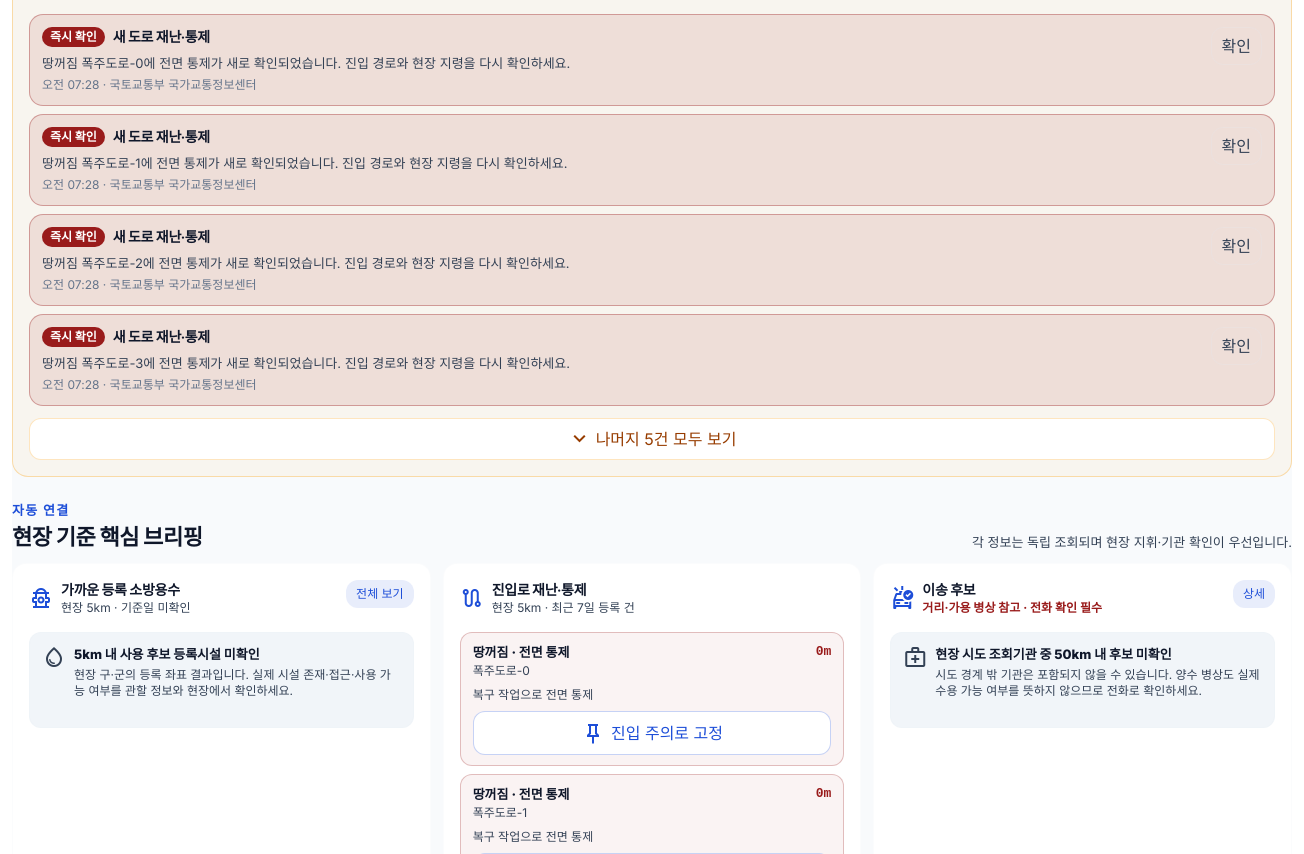
Scenario: IncidentModeView operational flow › keeps all simultaneous alerts but initially collapses the visible list
The width and height of the screenshot is (1304, 854).
(page scrolled)
Click the button "나머지 5건 모두 보기": x=652, y=439 [29, 418, 1275, 460]
(page scrolled)
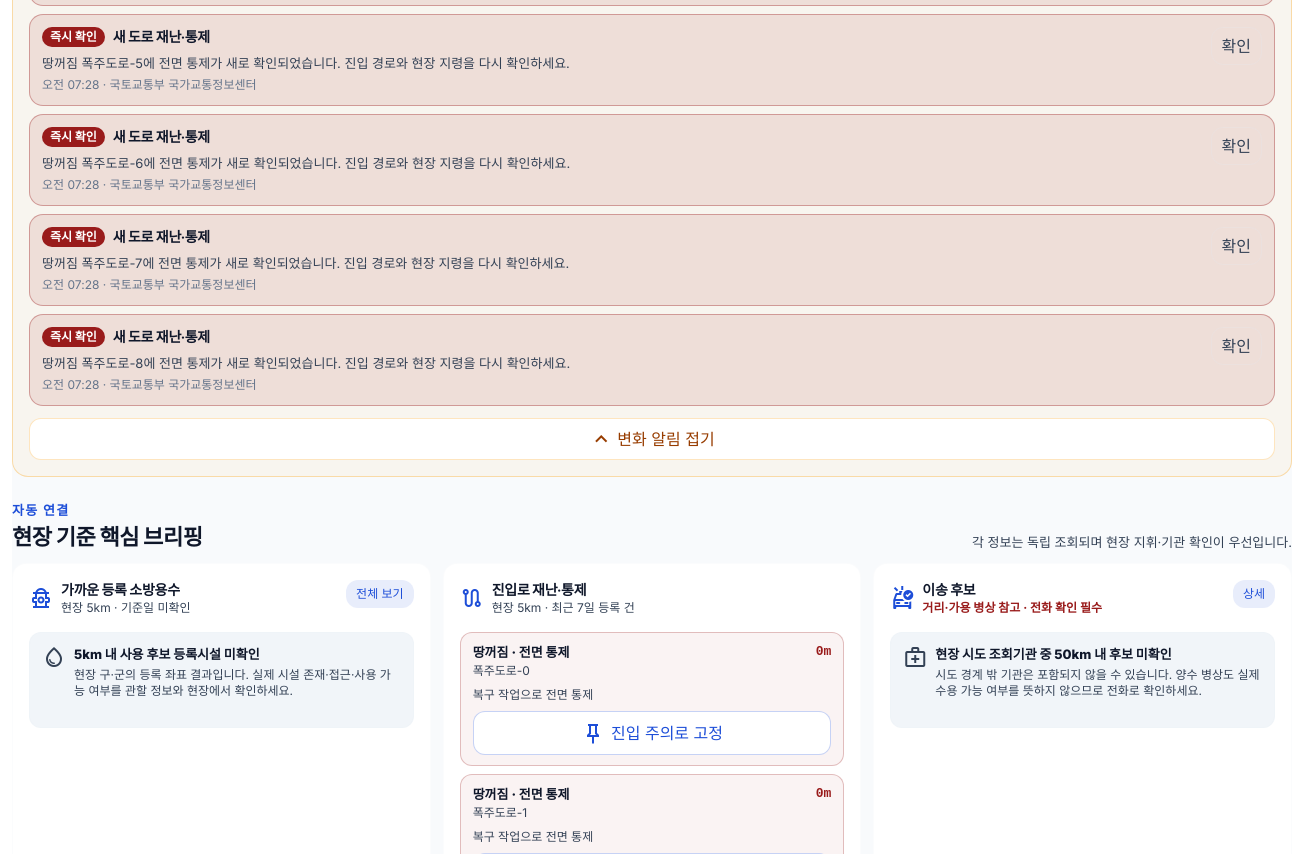
Expected: the button "변화 알림 접기" is shown, [29, 418, 1275, 460]
